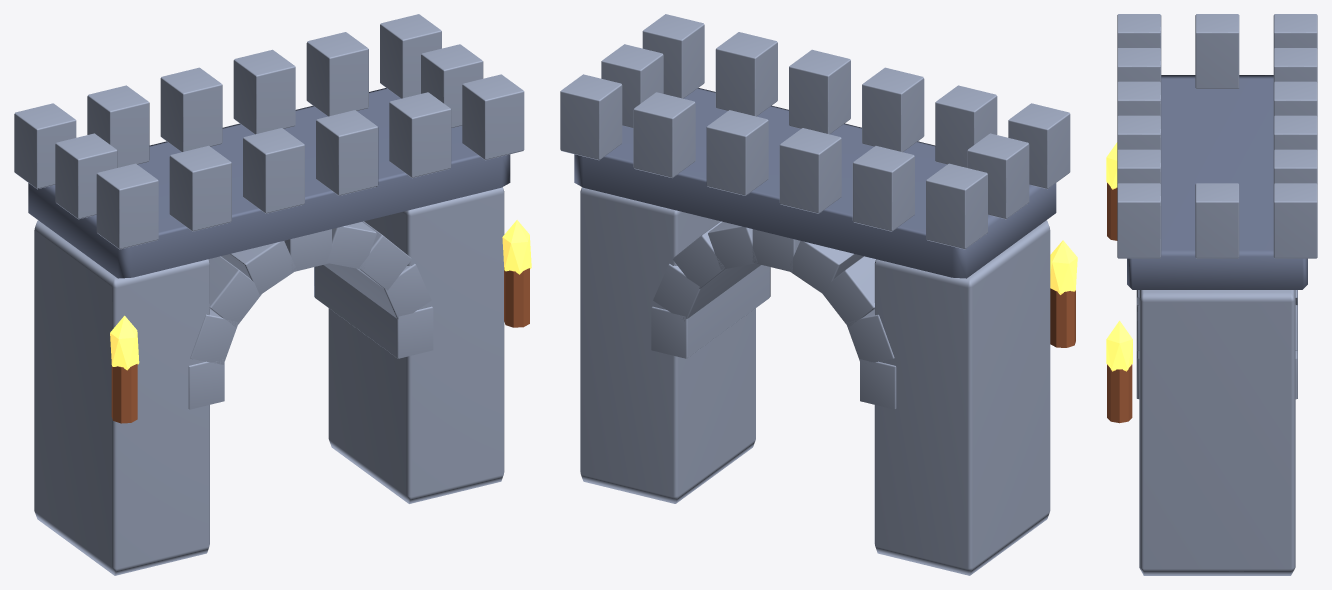
The model's file is castle_gatehouse.glb.
3 views of the same model, side by side, from view 1: azimuth 30°, elevation 25°; view 2: azimuth 150°, elevation 25°; view 3: azimuth 270°, elevation 25° (orthographic). The views are drawn at different scales.
Visible parts, largest first — view 1: Gate pier, Gate pier.001, Gate parapet, Arch voussoir, Merlon.028, Merlon.031, Merlon.037, Merlon.036, Merlon.034, Merlon.040, Merlon.039, Merlon.041 (+18 smaller); view 2: Gate pier, Gate pier.001, Gate parapet, Arch voussoir, Merlon.033, Merlon.038, Merlon.040, Merlon.039, Merlon.041, Merlon.035, Merlon.037, Merlon.030 (+16 smaller); view 3: Gate pier.001, Gate parapet, Merlon.032, Merlon.033, Merlon.031, Merlon.029, Merlon.035, Merlon.036, Merlon.040, Merlon.041, Merlon.037, Merlon.039 (+10 smaller).
Part boxes in pixels (x1,y1,x2,y2): Gate pier: (34, 220, 209, 575); Gate pier.001: (328, 187, 504, 503); Gate parapet: (28, 88, 510, 278); Arch voussoir: (314, 265, 433, 358); Merlon.028: (96, 163, 158, 249); Merlon.031: (462, 74, 524, 160); Merlon.037: (389, 92, 451, 178); Merlon.036: (316, 110, 378, 195); Merlon.034: (169, 145, 231, 231); Merlon.040: (233, 49, 295, 134); Merlon.039: (160, 67, 222, 151); Merlon.041: (306, 32, 368, 116); Gate pier: (874, 220, 1050, 575); Gate pier.001: (580, 187, 755, 503); Gate parapet: (574, 88, 1056, 278); Arch voussoir: (651, 265, 770, 358); Merlon.033: (560, 74, 622, 160); Merlon.038: (852, 146, 914, 231); Merlon.040: (706, 110, 768, 195); Merlon.039: (779, 128, 841, 213); Merlon.041: (633, 92, 695, 177); Merlon.035: (862, 67, 924, 152); Merlon.037: (715, 32, 777, 116); Merlon.030: (926, 163, 987, 249); Gate pier.001: (1139, 290, 1295, 575); Gate parapet: (1127, 75, 1307, 289); Merlon.032: (1195, 183, 1239, 258); Merlon.033: (1273, 183, 1317, 258); Merlon.031: (1117, 183, 1161, 258); Merlon.029: (1195, 14, 1239, 88); Merlon.035: (1117, 81, 1161, 116); Merlon.036: (1117, 115, 1161, 150); Merlon.040: (1273, 115, 1317, 150); Merlon.041: (1273, 149, 1317, 184); Merlon.037: (1117, 149, 1161, 184); Merlon.039: (1273, 81, 1317, 116).
Bounding box in the file's own units: 4.69 × 4.28 × 2.16.
